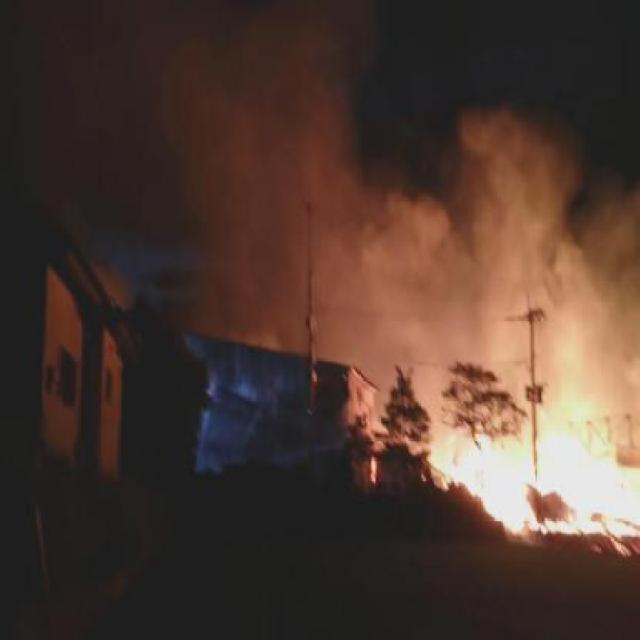Fire: (508, 424, 637, 538), (425, 437, 509, 531)
Smoke: (194, 75, 434, 354), (462, 119, 584, 373), (586, 174, 639, 282)
